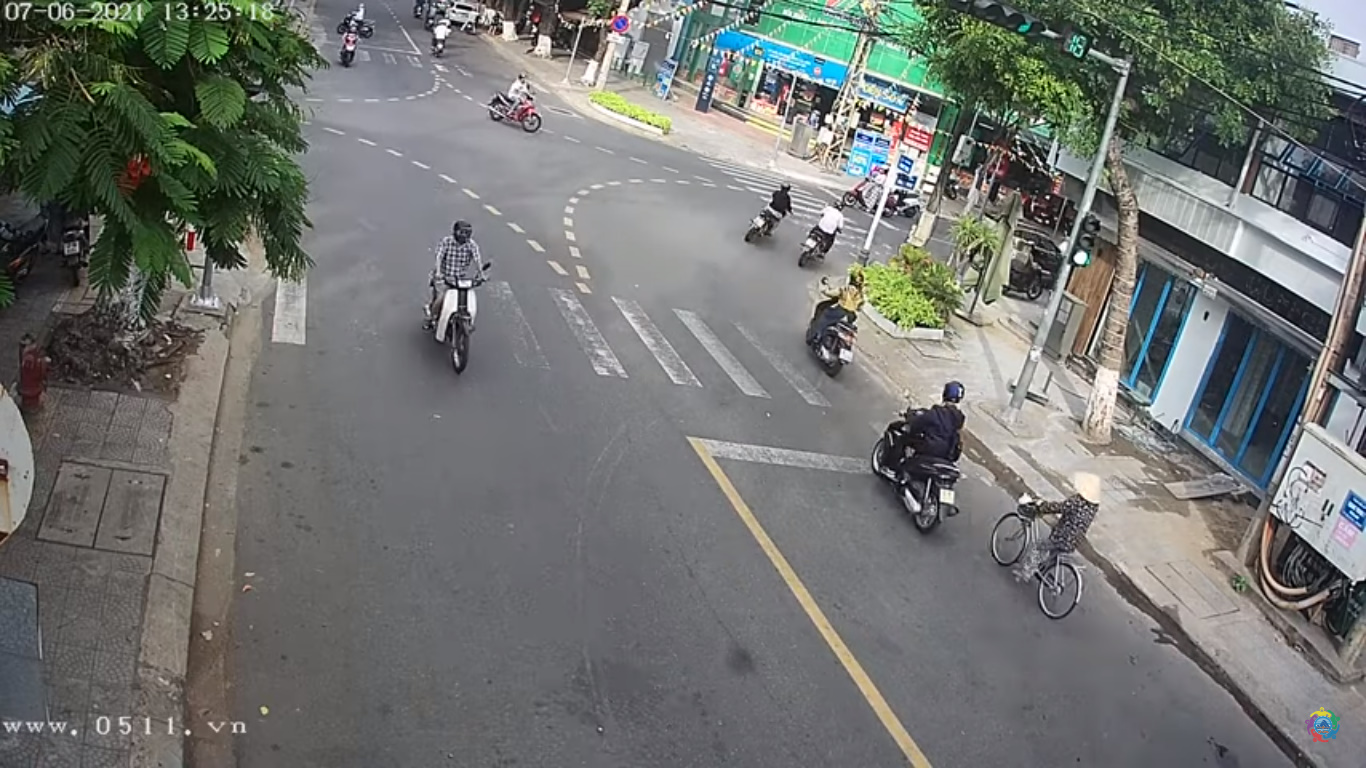motorbike: (422, 217, 502, 372)
